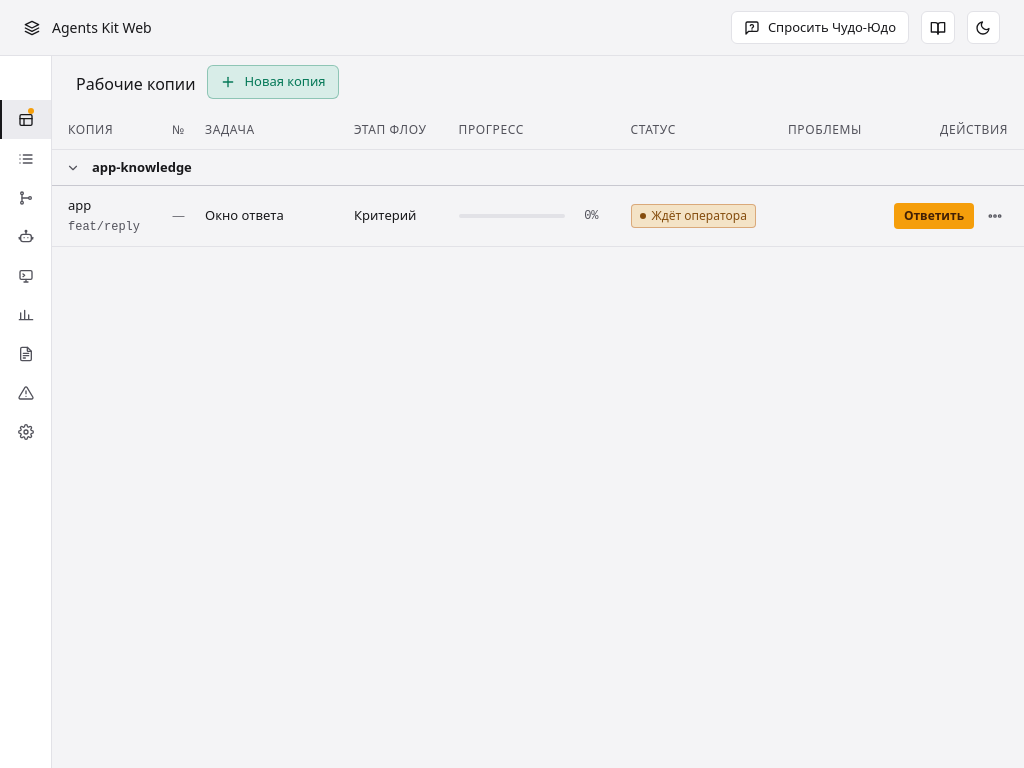
щелчок по свёрнутому вопросу раскрывает его: размеченный контекст и варианты с рекомендованным
This screenshot has width=1024, height=768.
What coordinates should you click on to do the following:
click the button "Ответить"
I would click on:
 (934, 216)
Its box is [894,203,974,229].
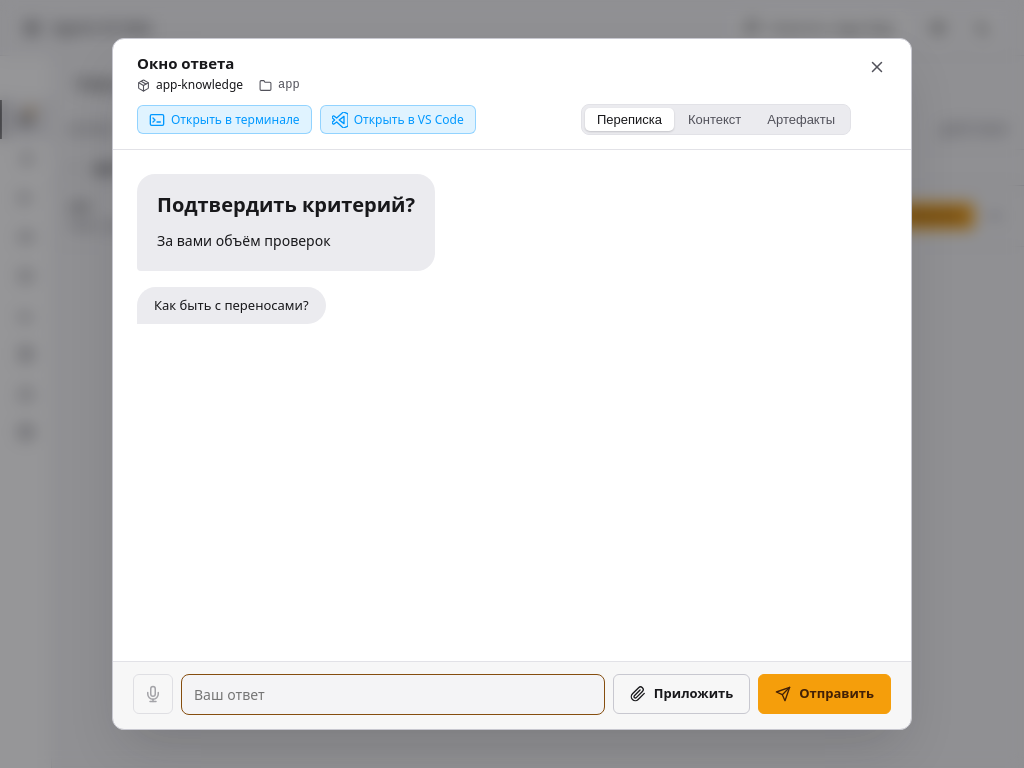
expect the heading "Подтвердить критерий?" is shown: met, box [157,192,415,218]
What coordinates should you click on to do the following:
click the button "Как быть с переносами?"
I would click on:
 (231, 306)
Its box is [137,287,326,324].
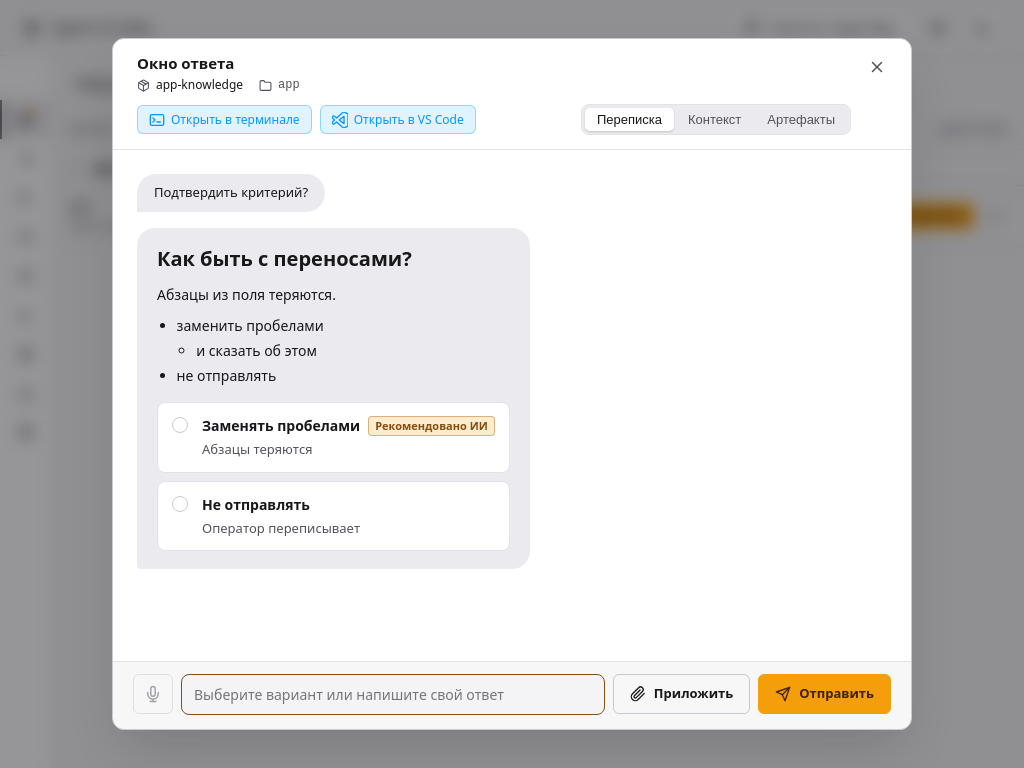
expect the heading "Как быть с переносами?" is shown: met, box [157,245,412,272]
expect the text "Абзацы из поля теряются." is shown: met, box [157,285,336,304]
expect the list item "и сказать об этом" is shown: met, box [196,341,317,360]
